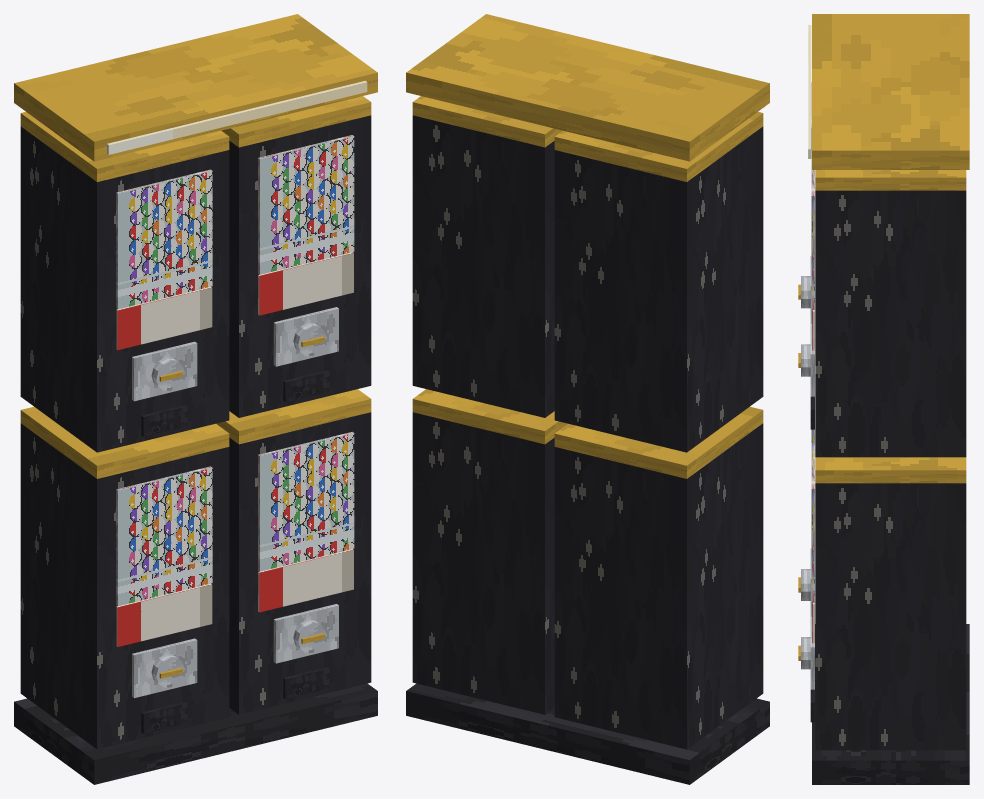
Rendered from route_machine_black.glb.
The picture shows the model from 3 angles, left to right: view 1: azimuth 30°, elevation 25°; view 2: azimuth 150°, elevation 25°; view 3: azimuth 270°, elevation 25°; orthographic projection.
Visible parts, largest first — view 1: Cube; view 2: Cube; view 3: Cube.
Part boxes in pixels (x1,y1,x2,y2): Cube: [14, 14, 377, 784]; Cube: [406, 14, 769, 784]; Cube: [798, 14, 969, 784].
Size of the model in its own units: 0.9 by 1.95 by 0.478.
7 materials, 7 textured.
